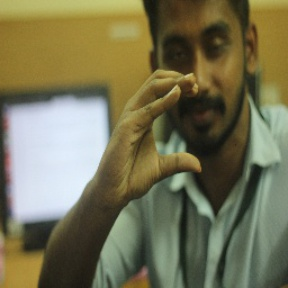C: (123, 66, 211, 189)
